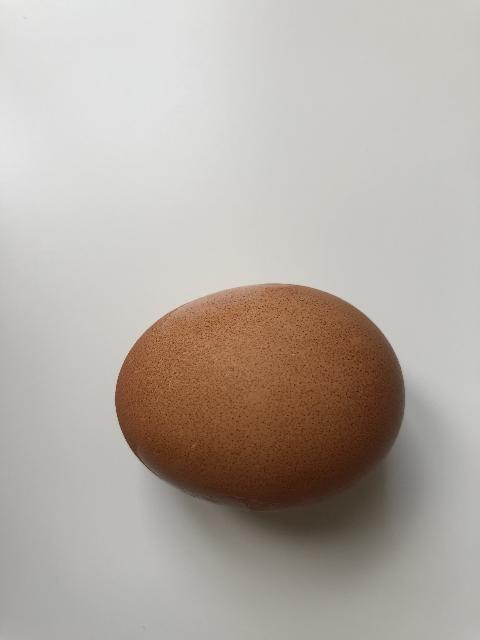Sano: (114, 281, 406, 513)
